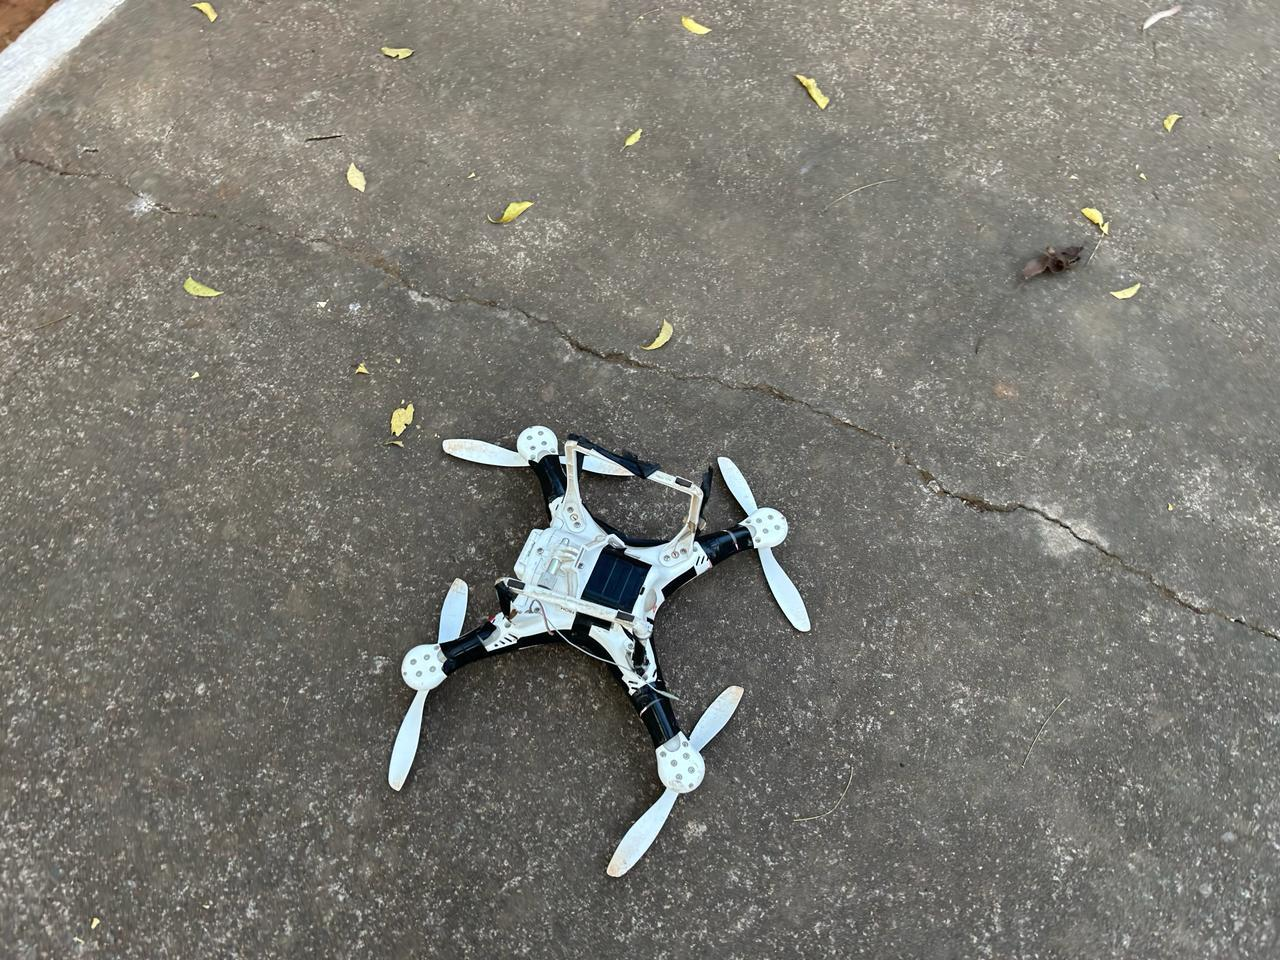drone: (243, 307, 926, 923)
